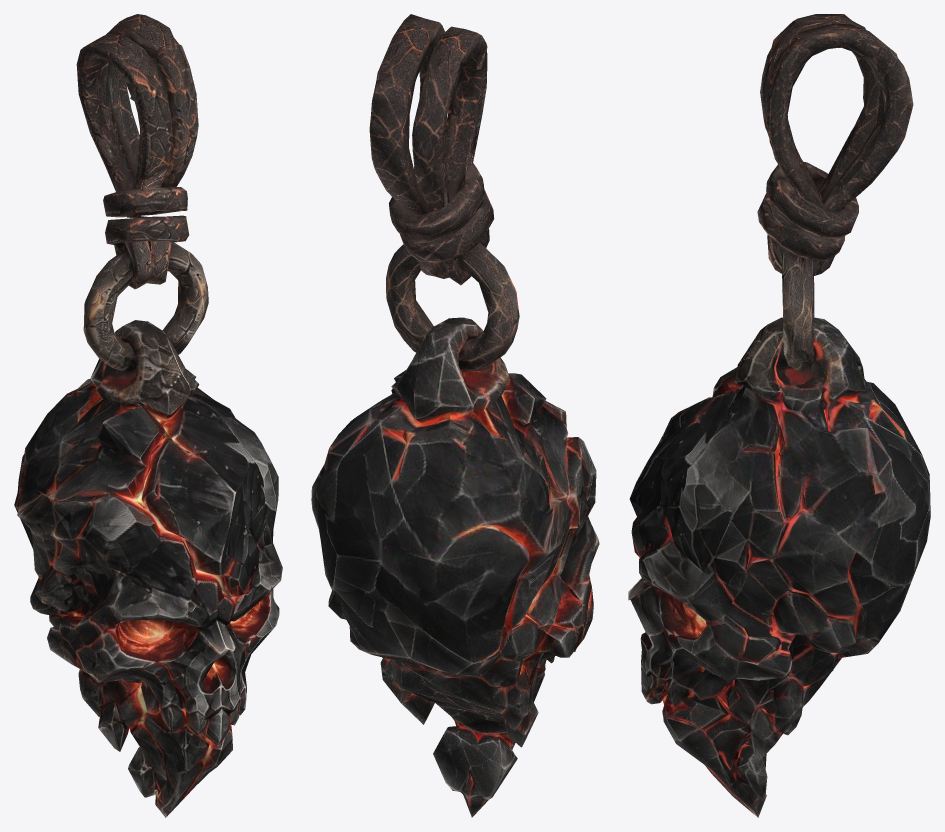
Rendered from set-fire-charm.glb.
3 renders of one model, left to right at view 1: azimuth 30°, elevation 25°; view 2: azimuth 150°, elevation 25°; view 3: azimuth 270°, elevation 25°, orthographic. The views are drawn at different scales.
Parts seen in each view (by area): view 1: Motion_Control; view 2: Motion_Control; view 3: Motion_Control.
Boxes of the visible parts, x1,y1,x2,y2 form: Motion_Control: (14, 14, 282, 817); Motion_Control: (311, 14, 599, 817); Motion_Control: (628, 14, 930, 817).
Bounding box in the file's own units: 0.5988 × 2 × 0.6862.
1 material, 1 textured.
